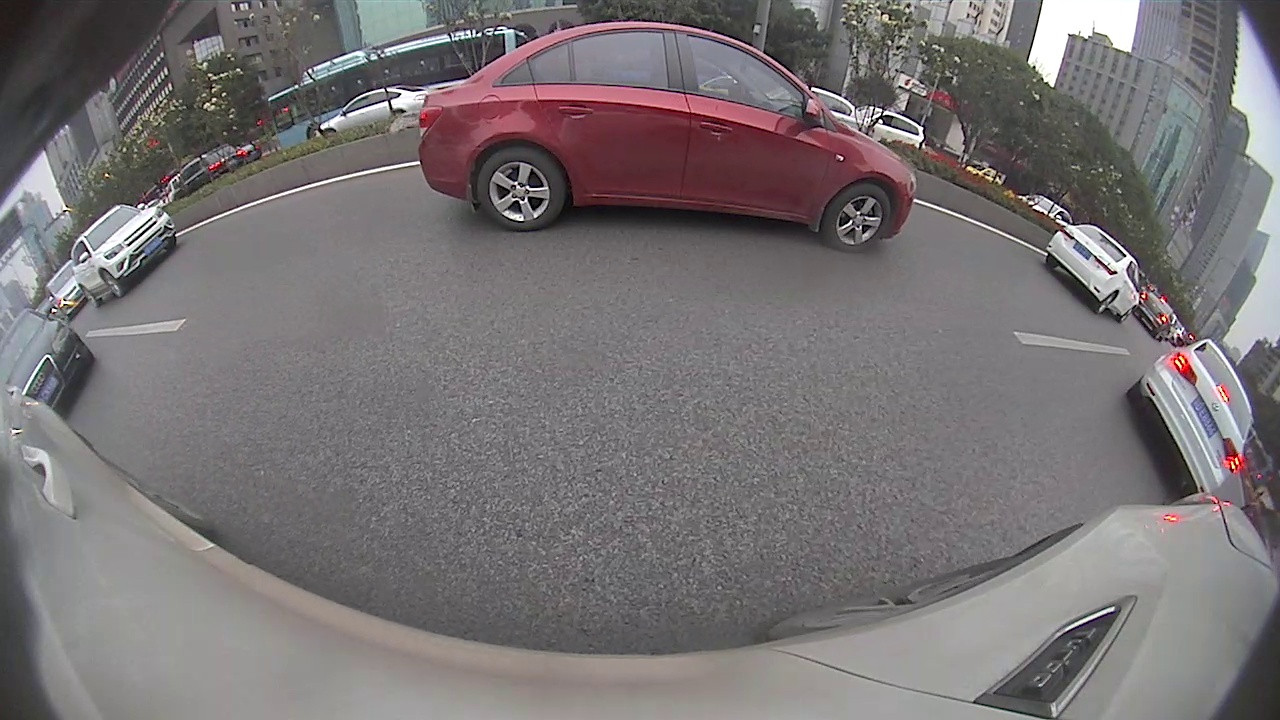car: (418, 20, 918, 253), (1123, 333, 1256, 496), (70, 204, 178, 307), (2, 301, 95, 418), (1045, 223, 1144, 323)
front: (824, 190, 892, 252), (98, 268, 125, 299)
rear: (478, 146, 565, 229), (1093, 291, 1118, 315)
